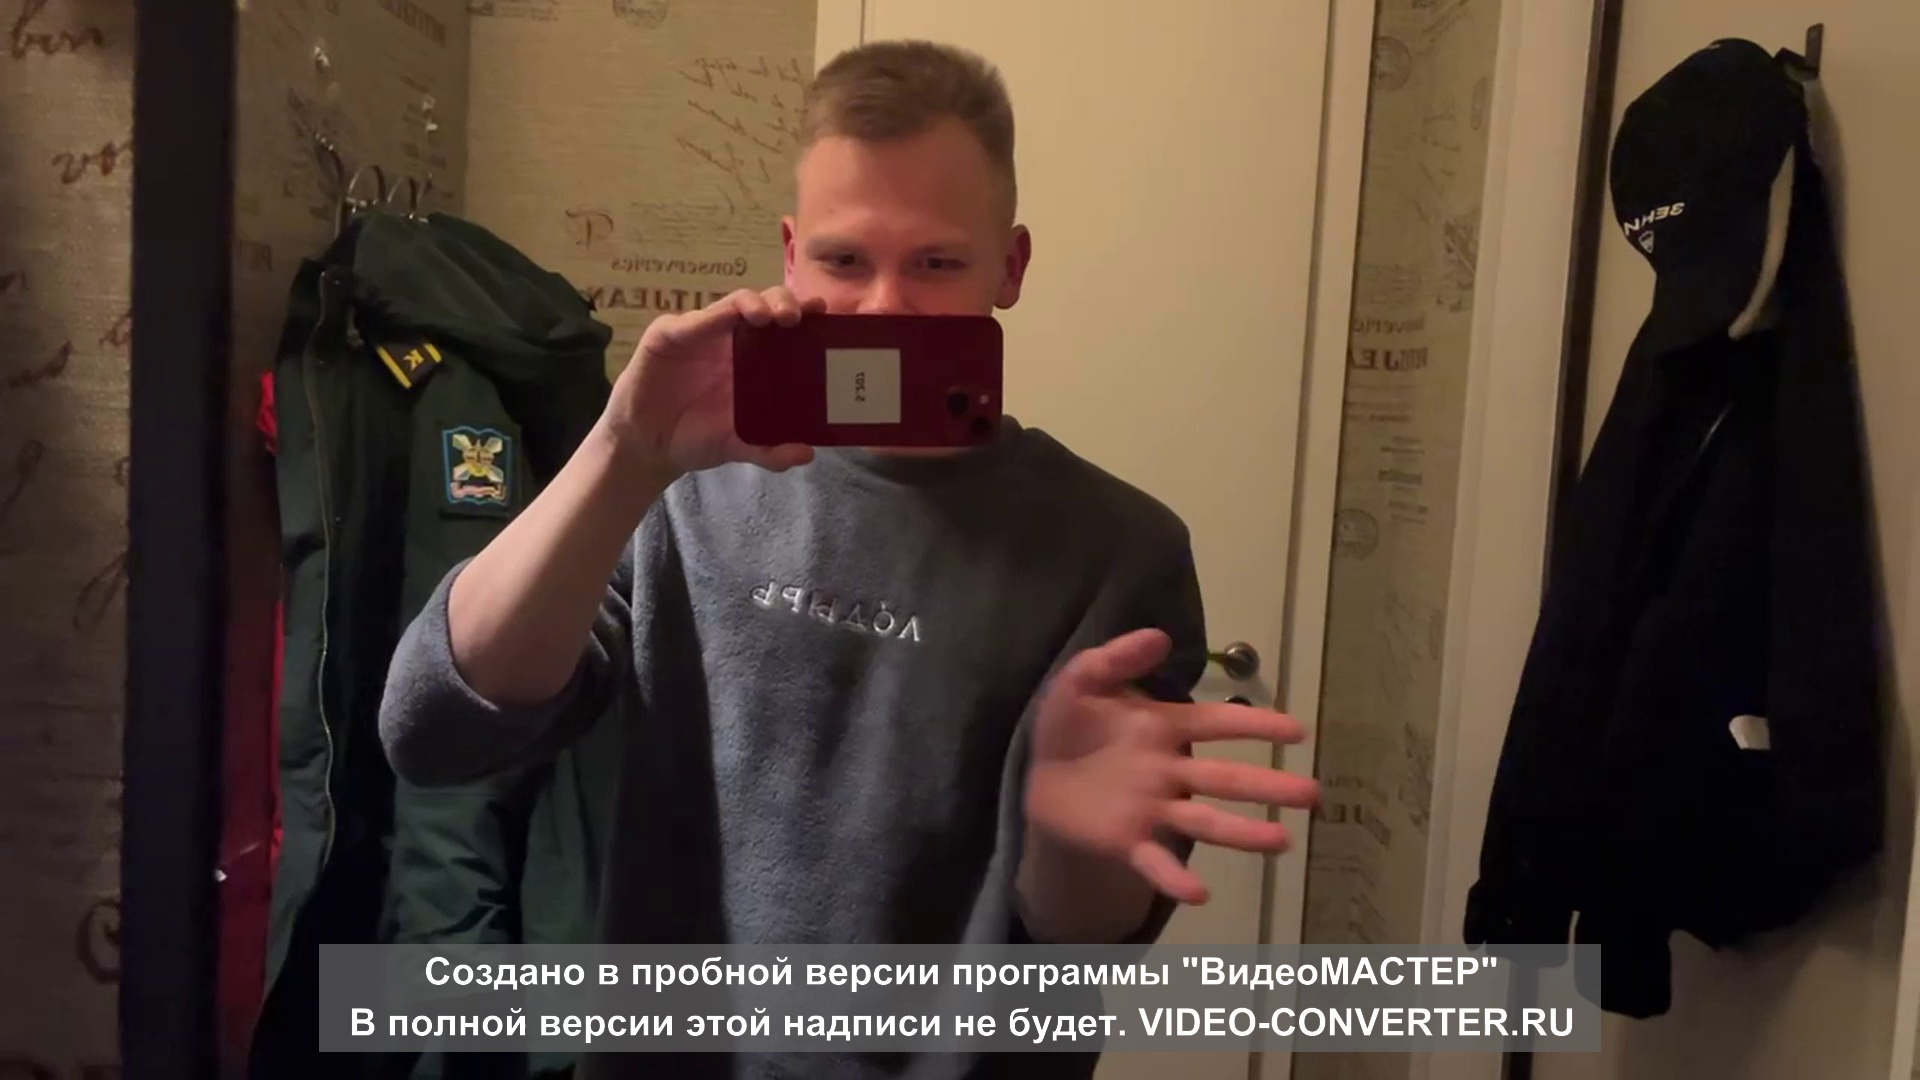Ладонь: (1035, 624, 1321, 902)
